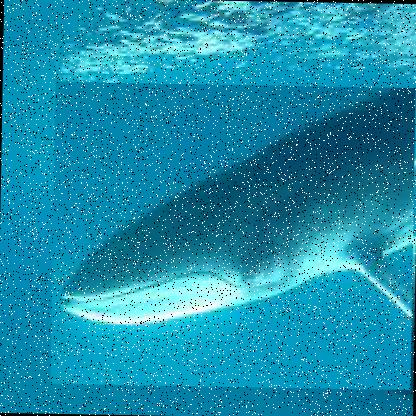blue_whale: (50, 81, 415, 391)
